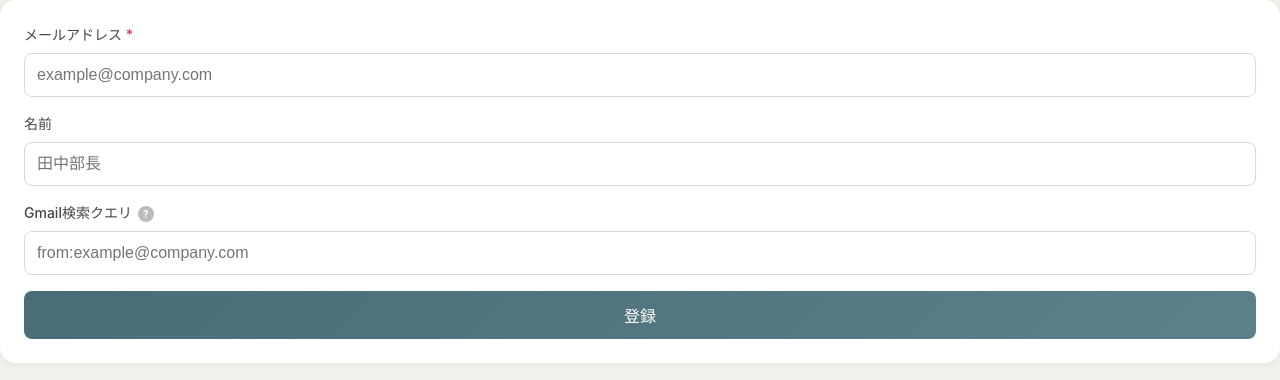
ContactForm › 送信中の状態 › should disable submit button while submitting
Type "test@example.com" into the field labelled "メールアドレス *" at (640, 75), box left=24, top=53, right=1256, bottom=97
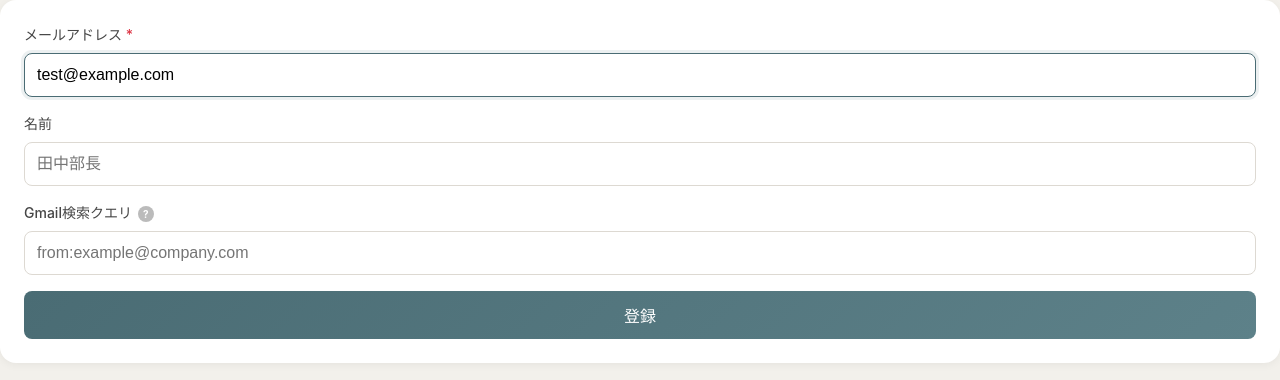
Click the button "登録" at (640, 315), box left=24, top=291, right=1256, bottom=339
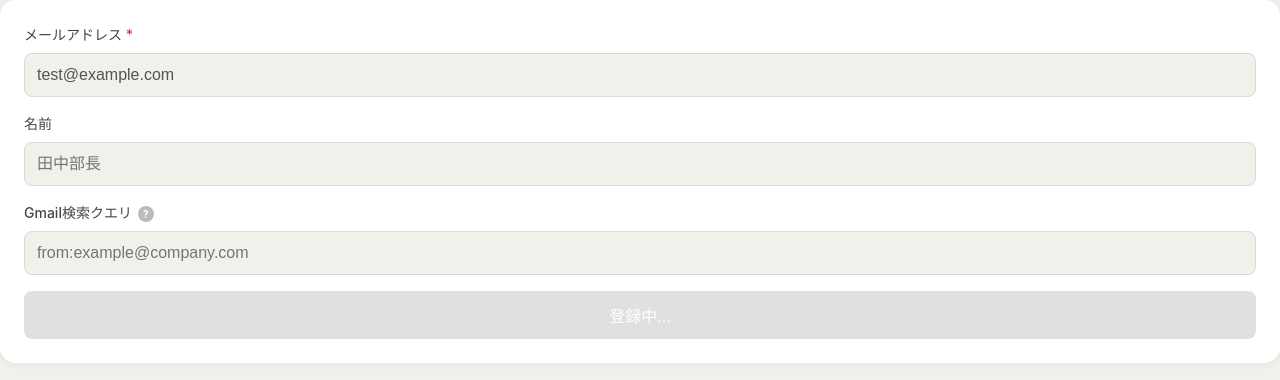
Result: the button "登録中..." is disabled at left=24, top=291, right=1256, bottom=339
